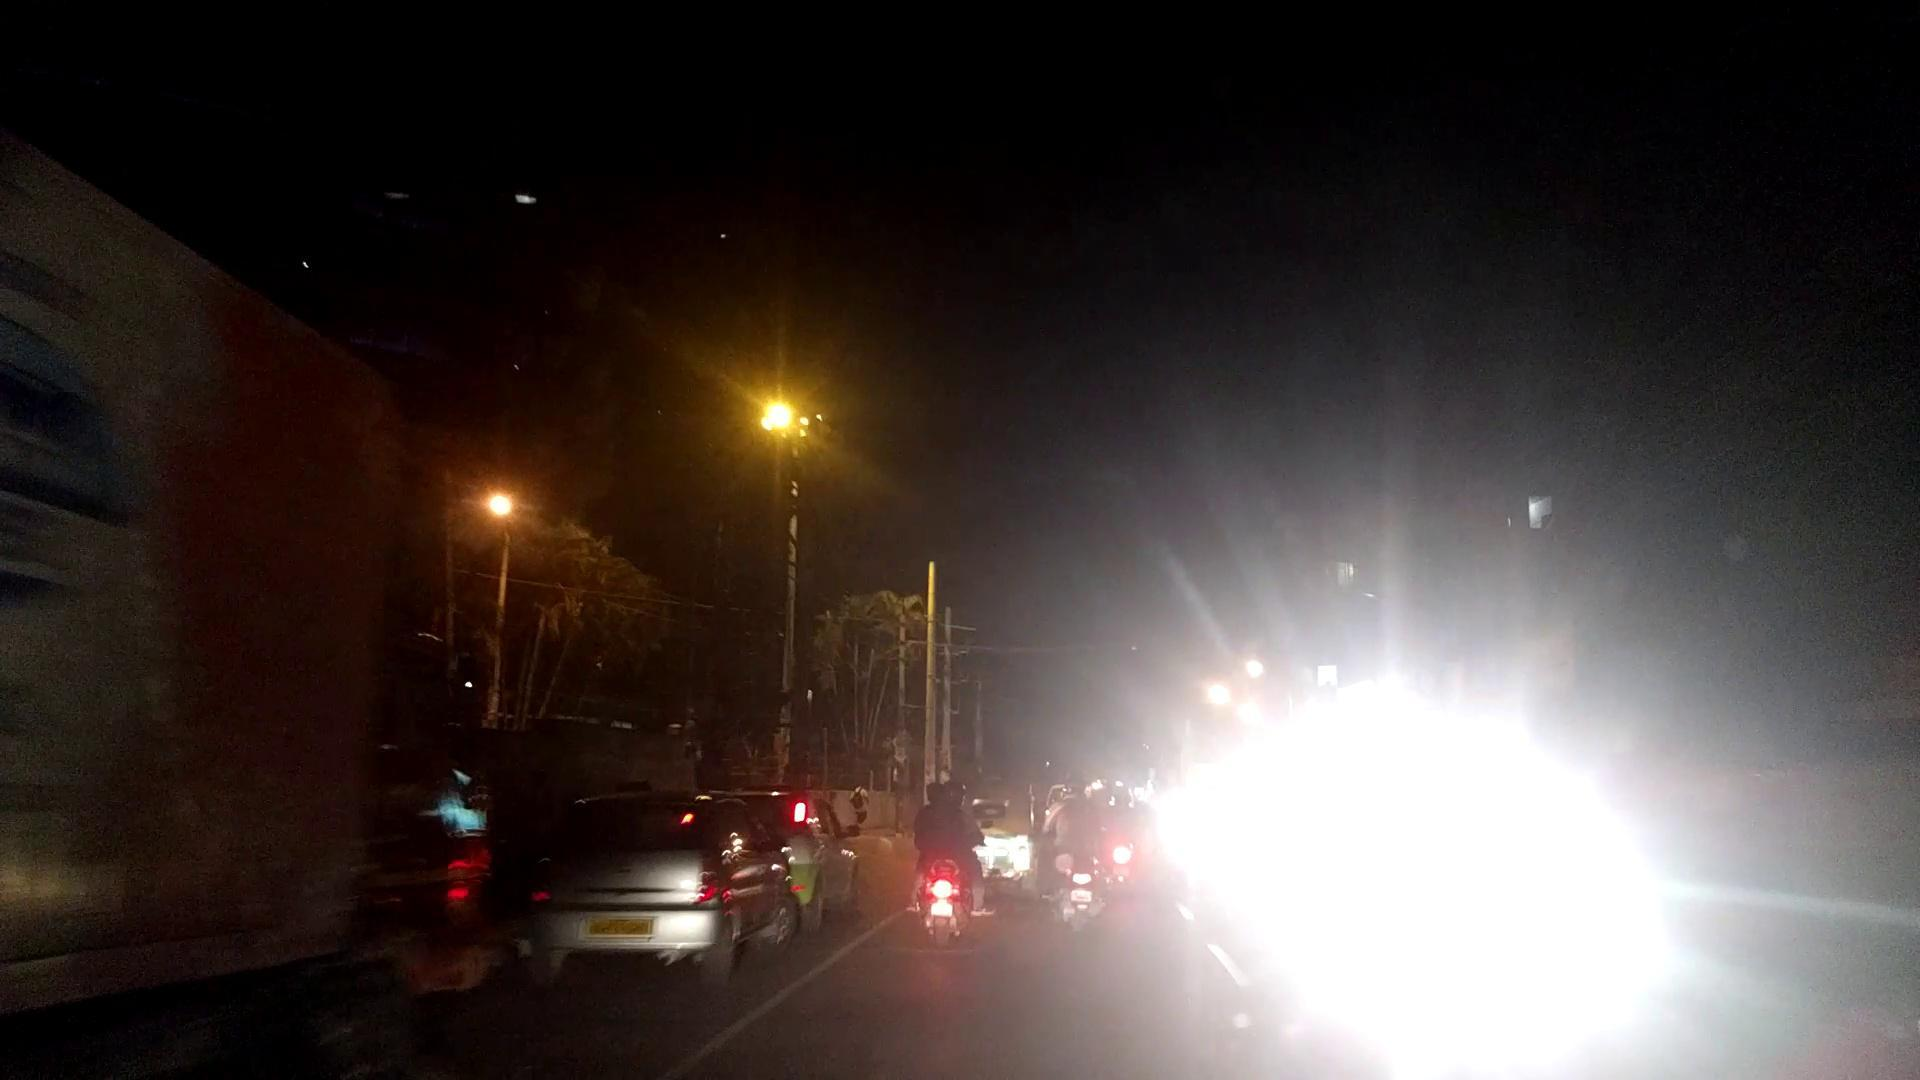on: (430, 291, 872, 611)
